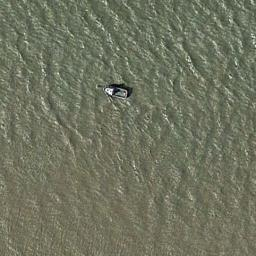boat: (102, 84, 130, 101)
